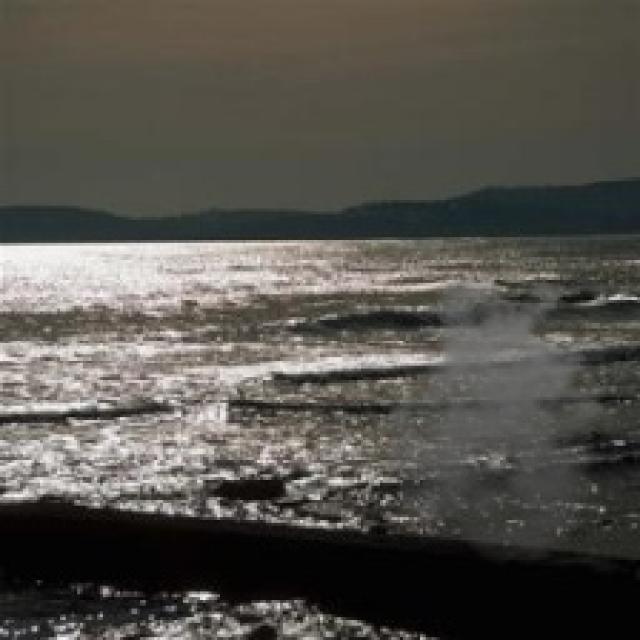Smoke: (372, 283, 634, 566)
